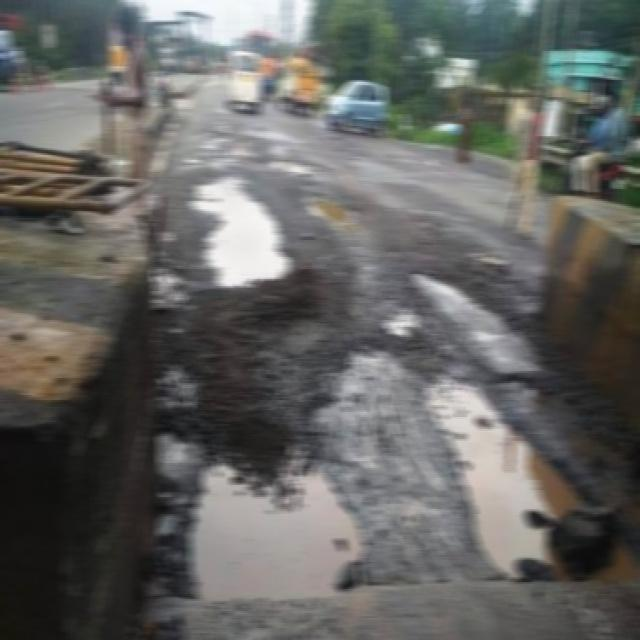Pothole: (418, 370, 640, 587), (170, 430, 372, 600), (402, 263, 546, 372), (183, 166, 296, 298), (299, 188, 371, 232), (202, 128, 301, 157), (382, 302, 425, 339), (279, 161, 334, 178)
